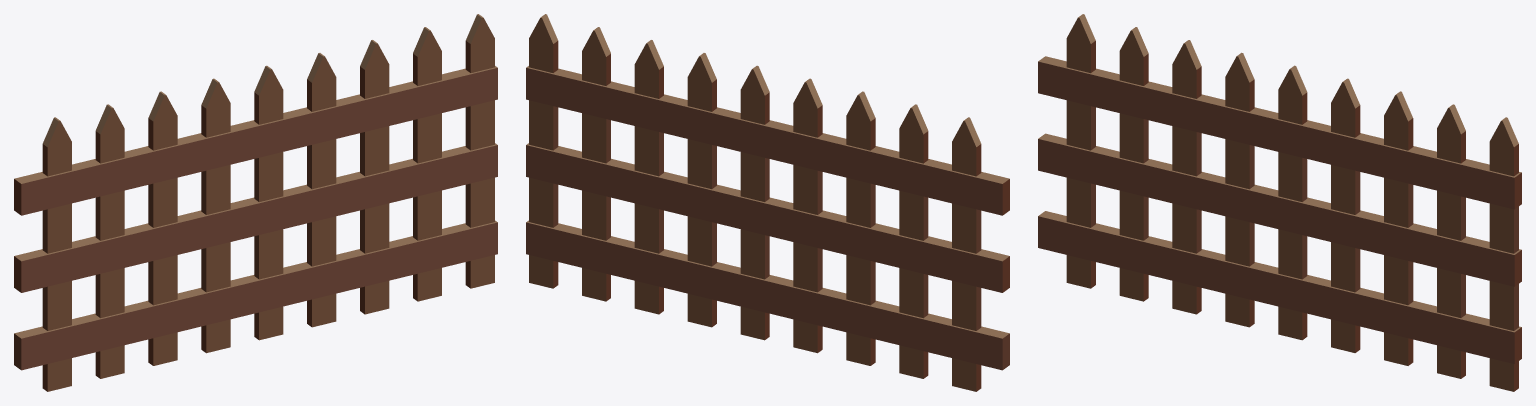
The model's file is Fence.fbx.
3 views of the same model, side by side, from view 1: azimuth 30°, elevation 25°; view 2: azimuth 150°, elevation 25°; view 3: azimuth 330°, elevation 25° (orthographic).
Visible parts, largest first — view 1: Cube; view 2: Cube; view 3: Cube.
Part boxes in pixels (bbox=[...]): Cube: bbox=[14, 14, 497, 391]; Cube: bbox=[526, 14, 1009, 391]; Cube: bbox=[1038, 14, 1521, 391].
Bounding box in the file's own units: 646 × 347 × 17.11.
